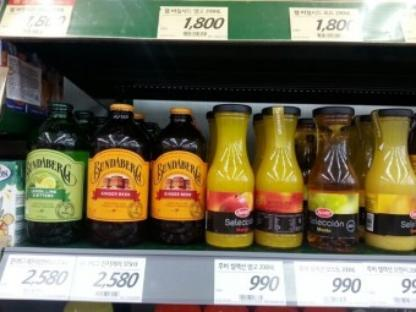Glass Bottle: (87, 104, 150, 246), (26, 103, 88, 245), (151, 108, 207, 244), (309, 108, 360, 252), (366, 109, 416, 251), (207, 106, 255, 248), (256, 107, 304, 249)
